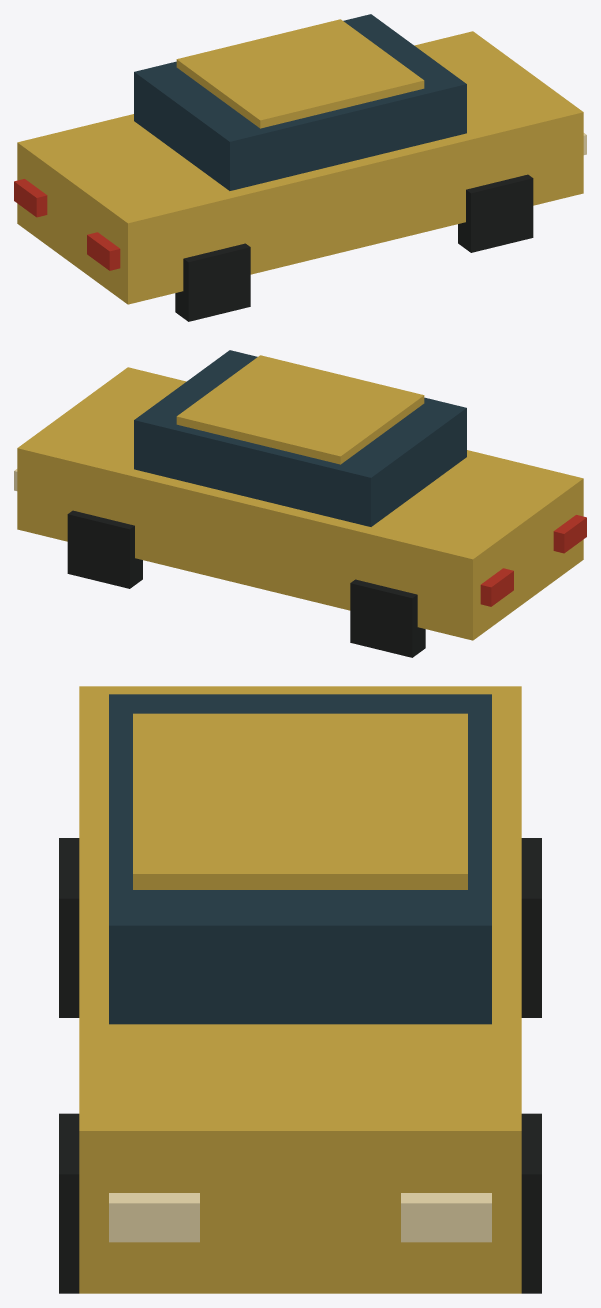
Rendered from traffic-car-5.glb.
3 views of the same model, one above another, from view 1: azimuth 30°, elevation 25°; view 2: azimuth 150°, elevation 25°; view 3: azimuth 270°, elevation 25° (orthographic). The views are drawn at different scales.
Bounding box in the file's own units: 4.61 × 1.53 × 2.02.
